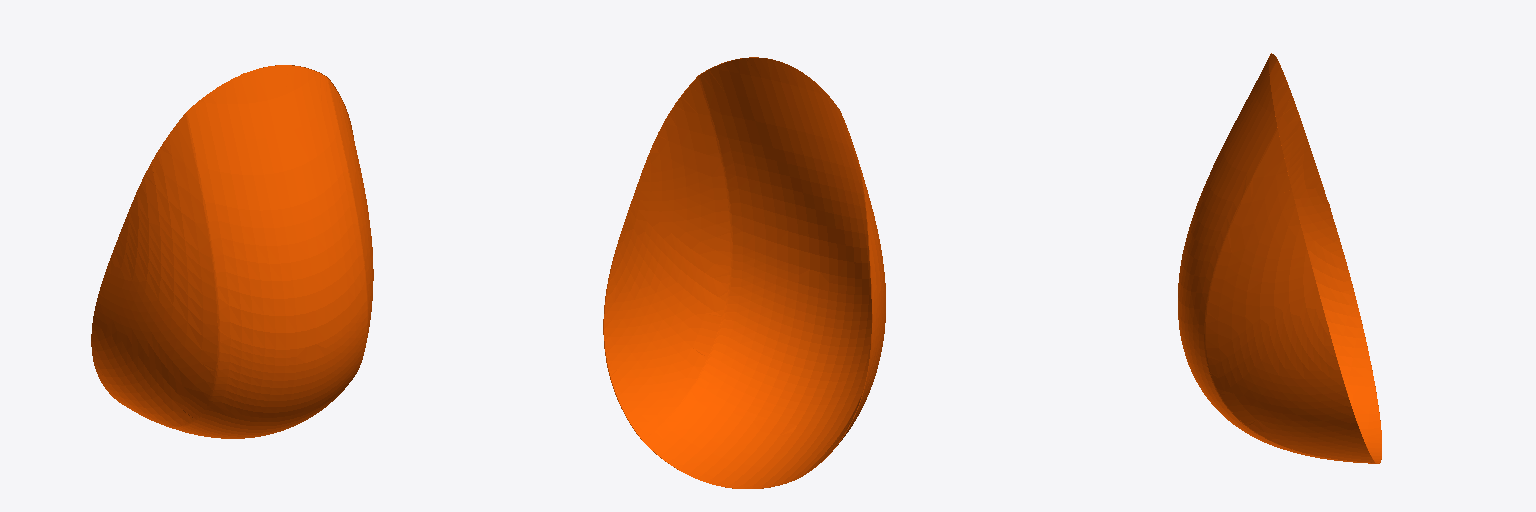
Rendered from link_2_orange.obj.
3 renders of one model, left to right at view 1: azimuth 30°, elevation 25°; view 2: azimuth 150°, elevation 25°; view 3: azimuth 270°, elevation 25°, orthographic.
Bounding box in the file's own units: 0.1601 × 0.2222 × 0.1074.